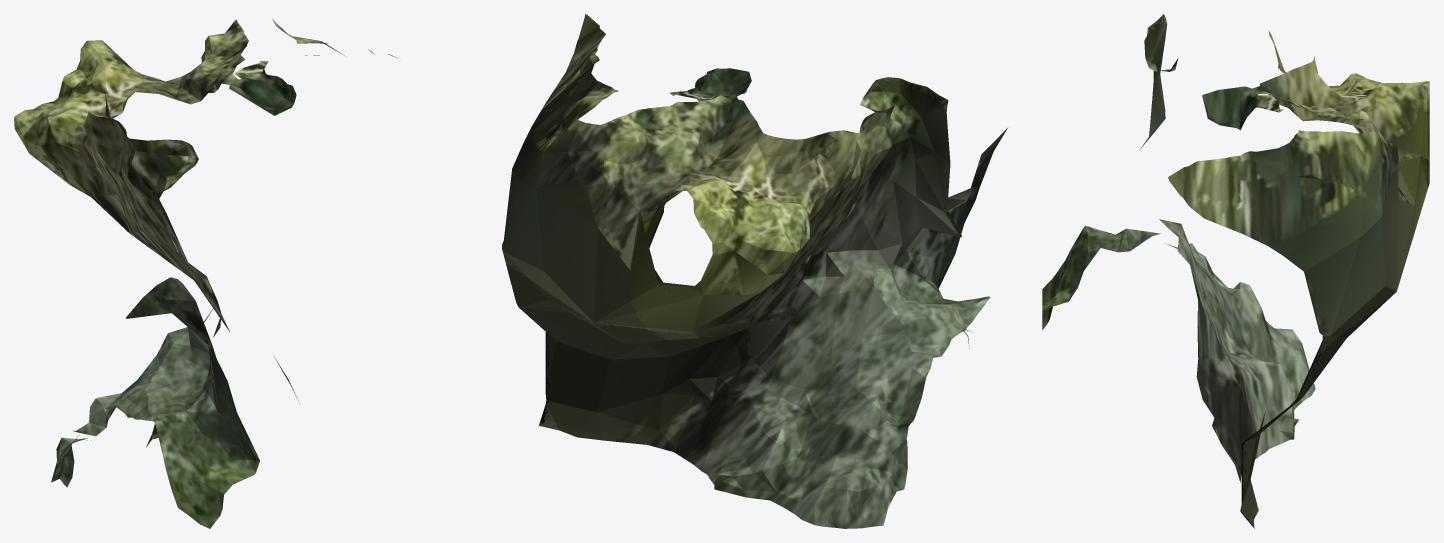
3 views of the same model, side by side, from view 1: azimuth 30°, elevation 25°; view 2: azimuth 150°, elevation 25°; view 3: azimuth 270°, elevation 25° (orthographic). The views are drawn at different scales.
Size of the model in its own units: 5.9 by 5.9 by 5.9.
5 materials, 5 textured.
